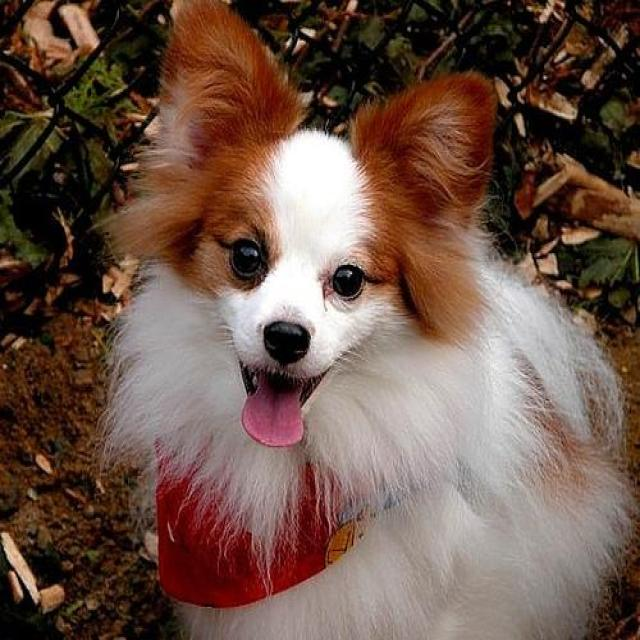papillon: (101, 0, 629, 637)
